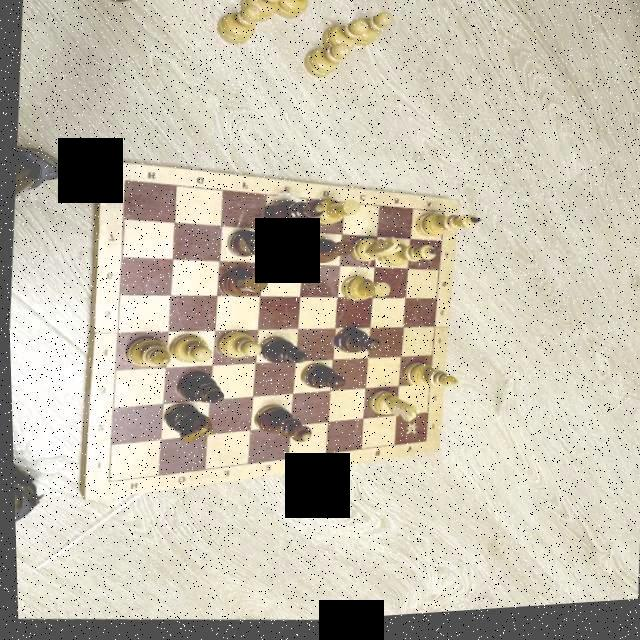chess-table-corners: (98, 477, 112, 488), (118, 177, 128, 187), (418, 442, 425, 449), (438, 214, 445, 220)
